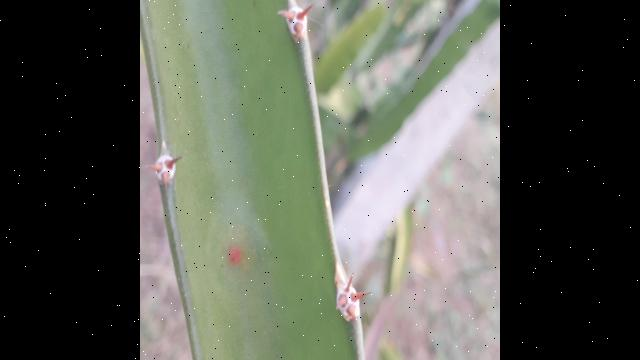stemcanker: (214, 226, 259, 284)
